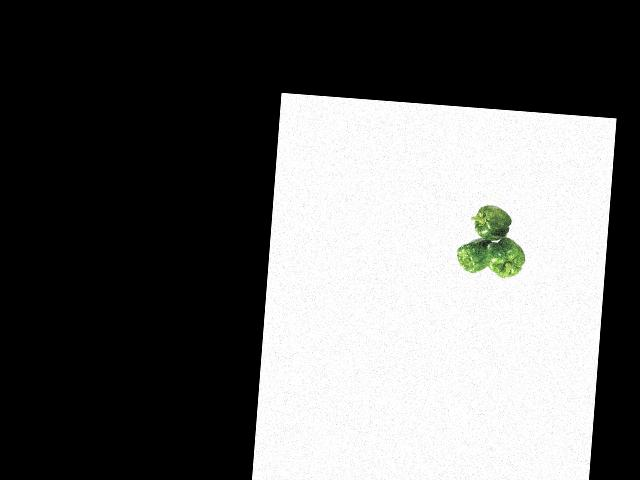bell_pepper: (483, 236, 530, 283)
